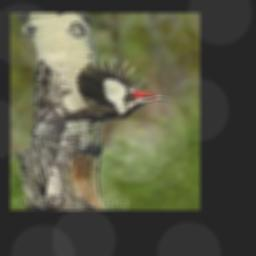Woodpecker: (39, 56, 173, 127)
